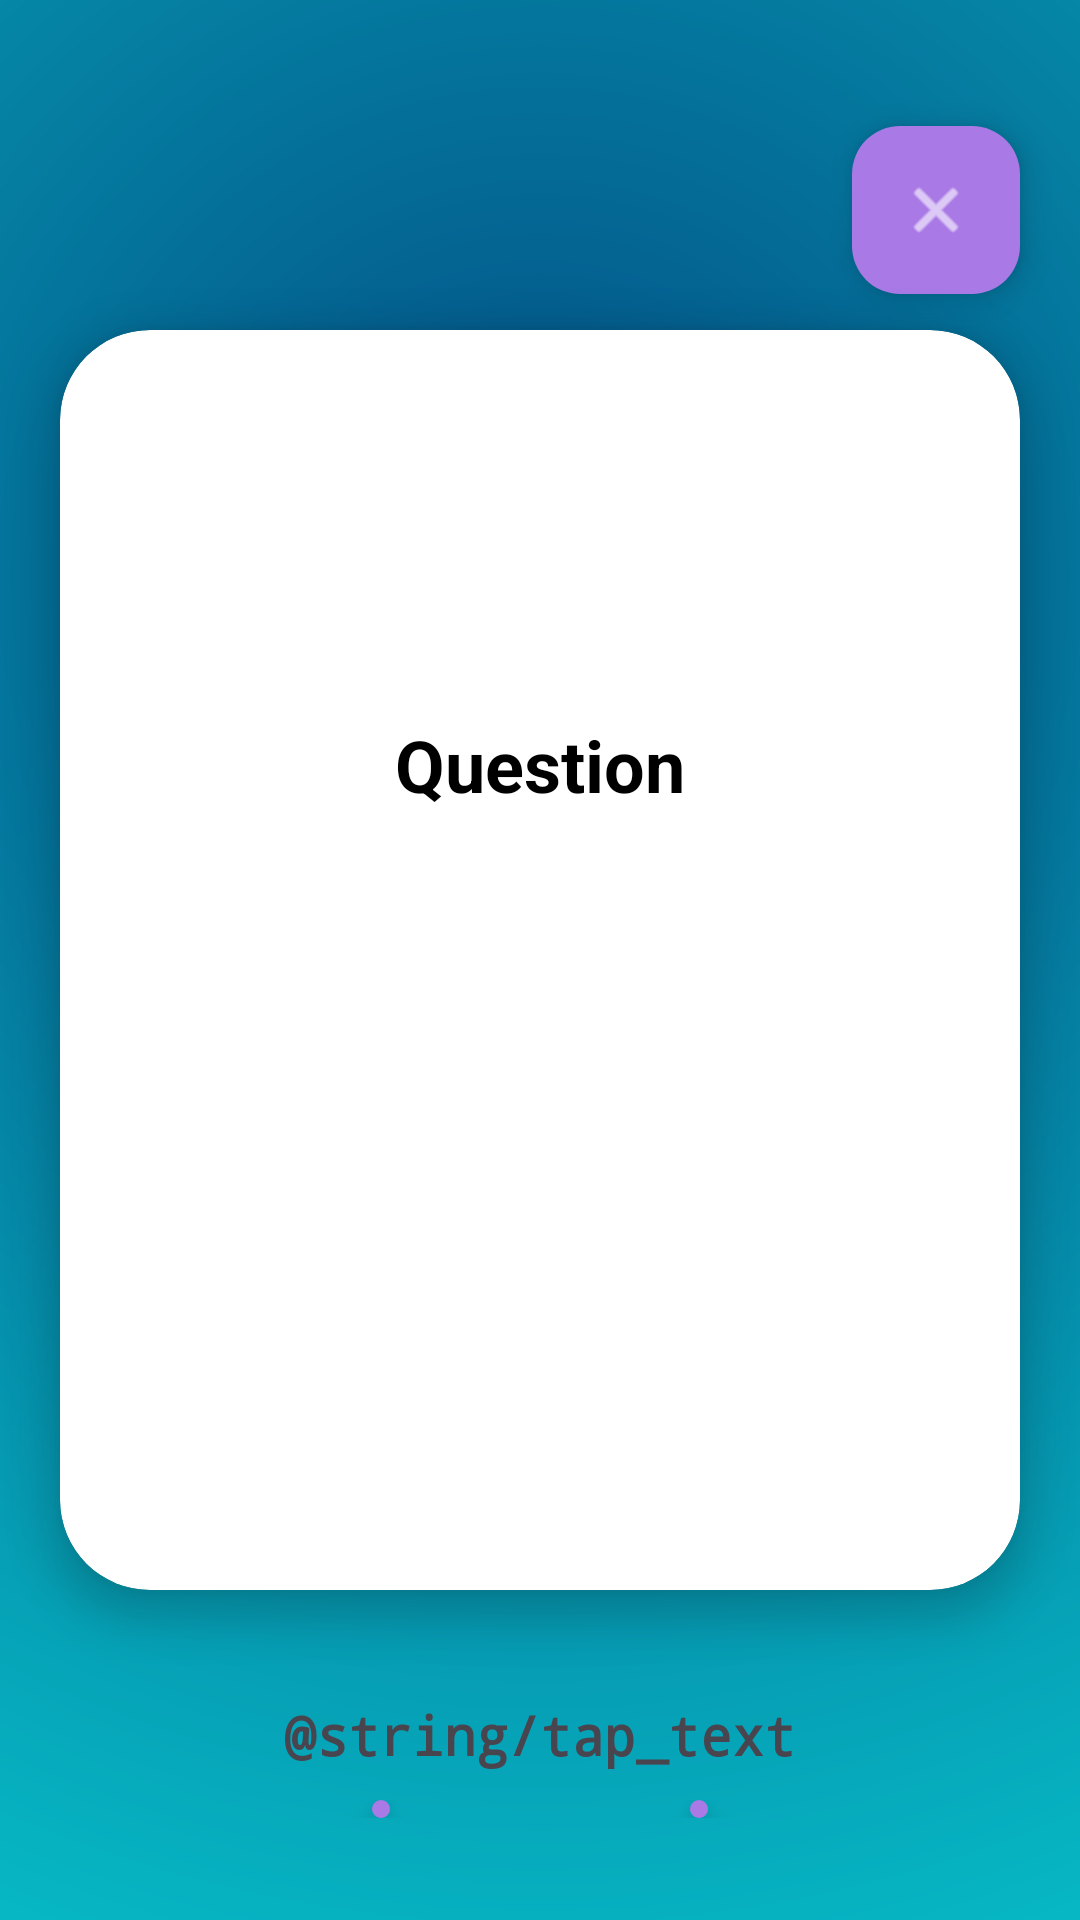

Icon click points for this 1080 x 1920 phone screenshot, format [x,y]:
close clear cancel: [936,210]
